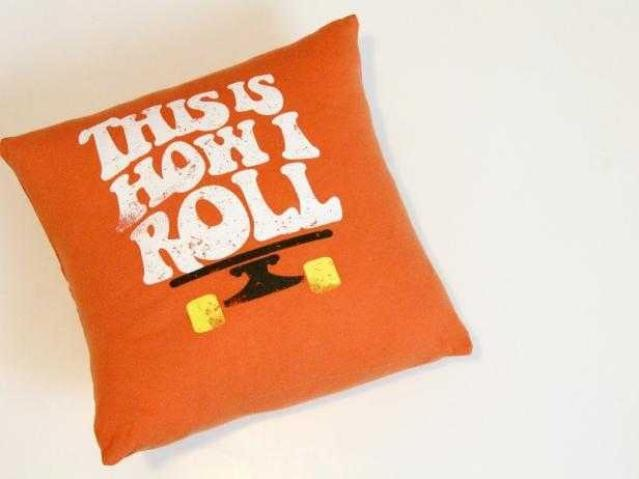pillow: (0, 12, 474, 466)
